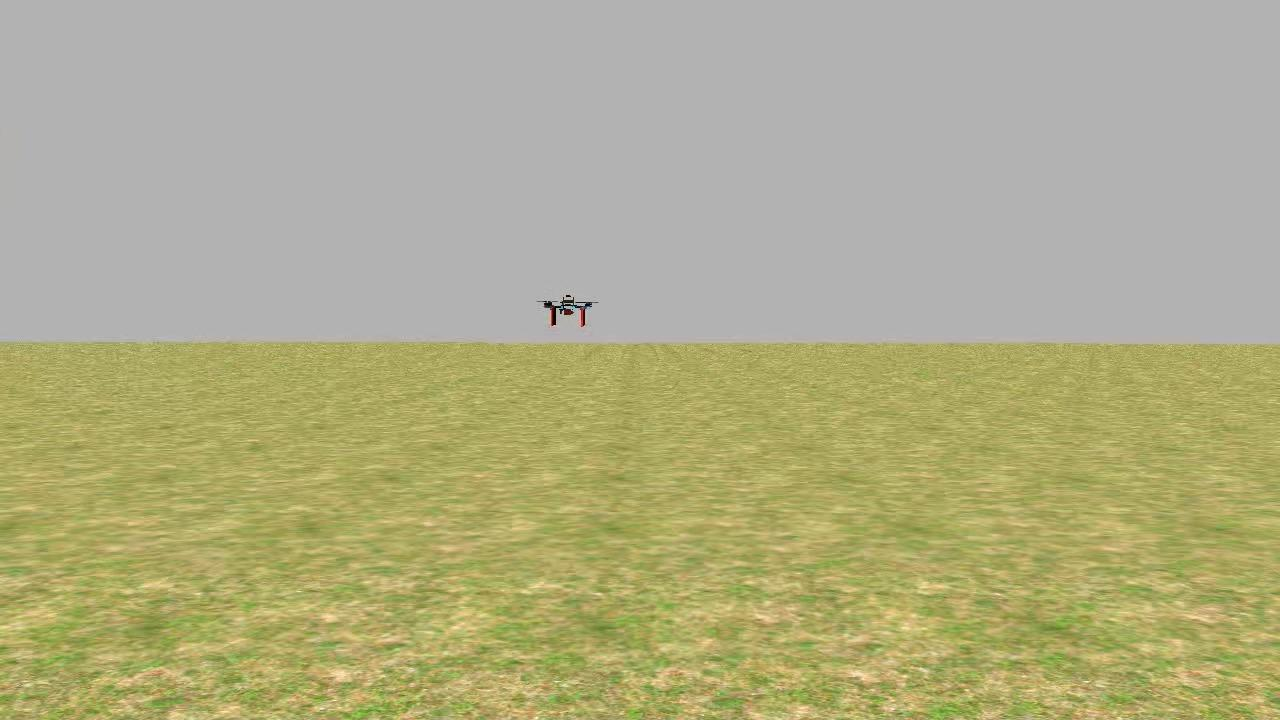UAV: (536, 278, 600, 330)
